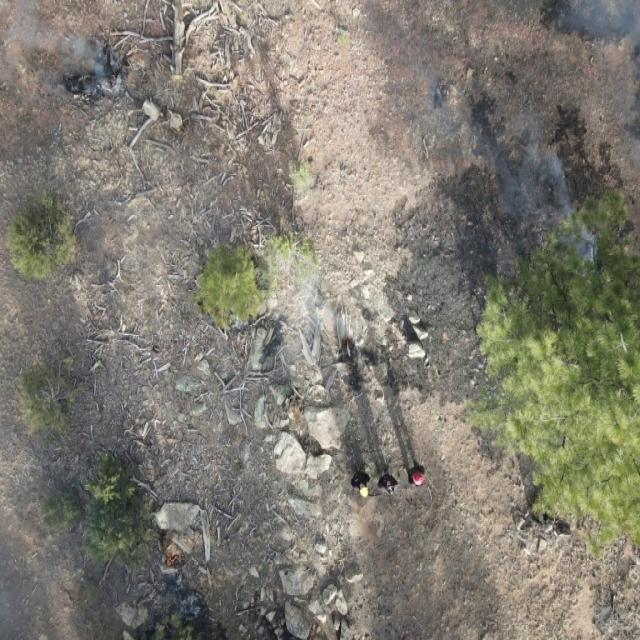fire: (162, 549, 183, 572), (108, 68, 117, 84), (342, 339, 355, 349), (437, 80, 445, 90)
smoke: (407, 0, 640, 264), (160, 189, 380, 376), (0, 0, 148, 128)
